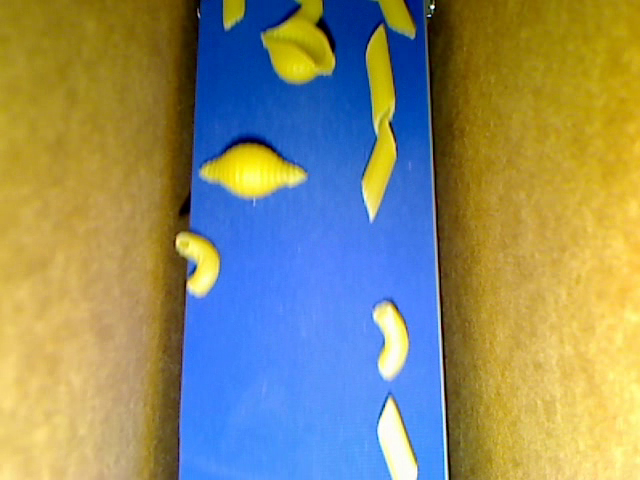elbow: (174, 230, 220, 299), (371, 299, 408, 380), (293, 1, 322, 29)
penne: (359, 115, 397, 222), (376, 394, 418, 479), (365, 24, 395, 133), (374, 1, 415, 38), (220, 1, 245, 29)
shell: (199, 144, 307, 199), (261, 21, 336, 84)
